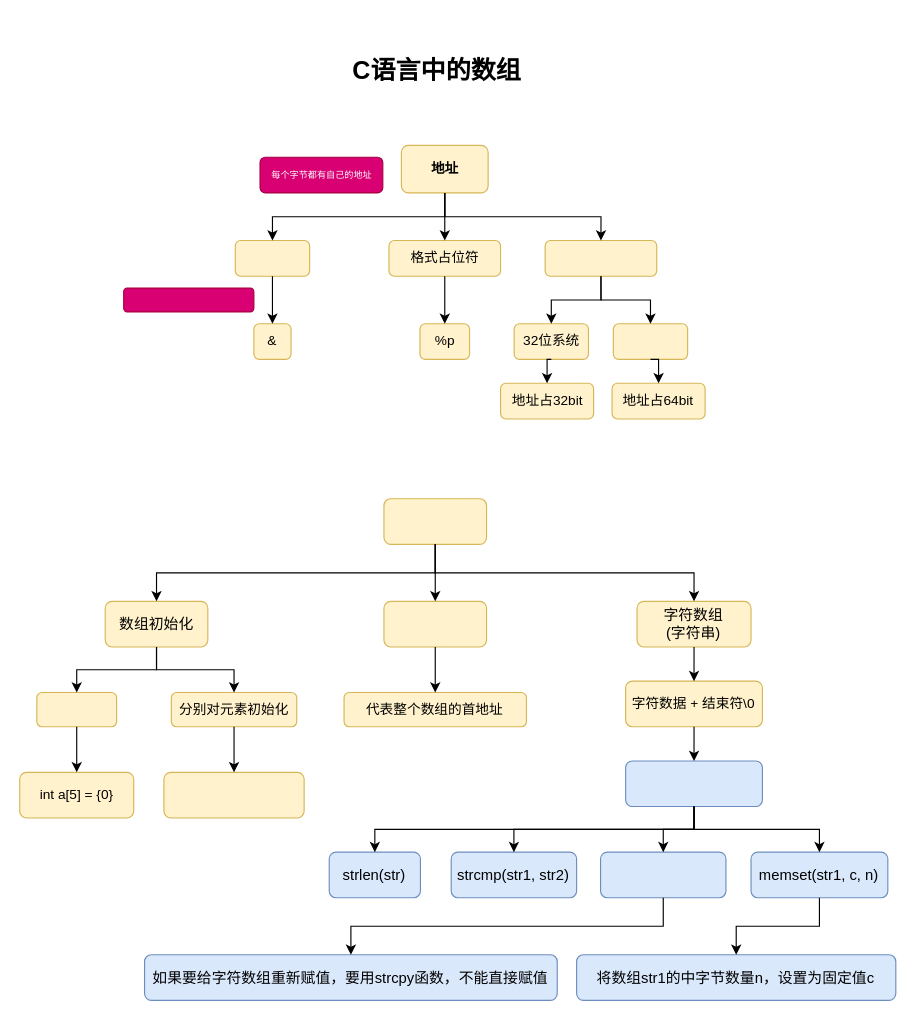
The diagram is 917 pixels wide and 1020 high, and some of its shapes have lost their labels. The shapes that lost their labels are listed below. From the top down, each one's centre as x and y in pixels, then its label:
the point at 272,257: 取址符
the point at 600,257: 地址的大小
the point at 188,299: 用于取一个变量的地址
the point at 650,341: 64位系统
the point at 435,521: 数组
the point at 435,623: 数组的名称
the point at 76,709: 归零
the point at 233,794: int a[5] = {1,2,3,4,5}
the point at 693,783: 字符串相关函数 <string.h>
the point at 662,874: strcpy(dest, src)
